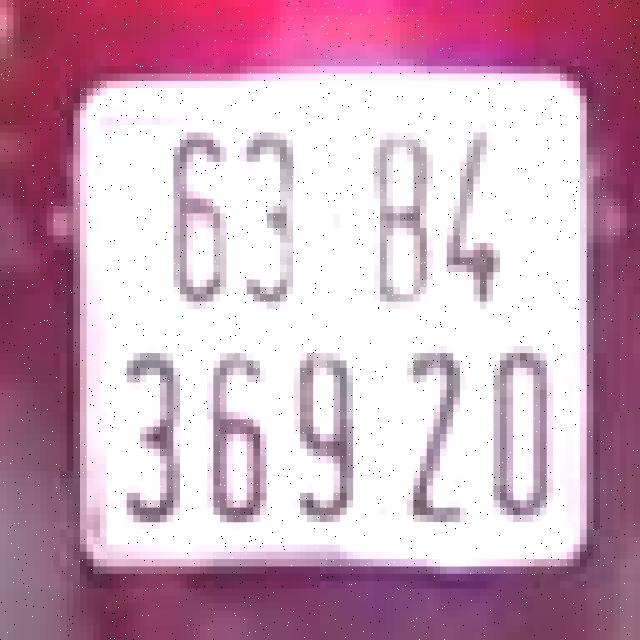0: (487, 338, 553, 522)
2: (400, 342, 473, 526)
3: (113, 346, 187, 530), (244, 121, 304, 313)
4: (440, 118, 507, 316)
6: (163, 128, 230, 312), (207, 346, 273, 522)
9: (290, 342, 363, 526)
B: (363, 125, 437, 316)
